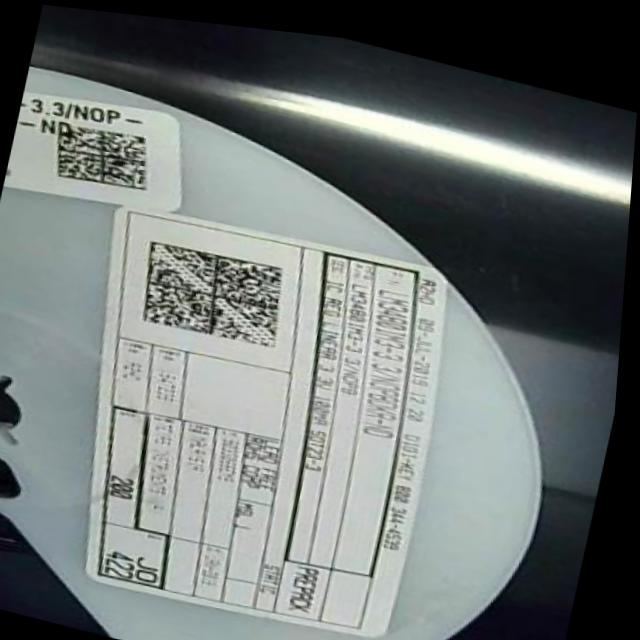datamatrix: (136, 230, 301, 354), (47, 112, 164, 199)
